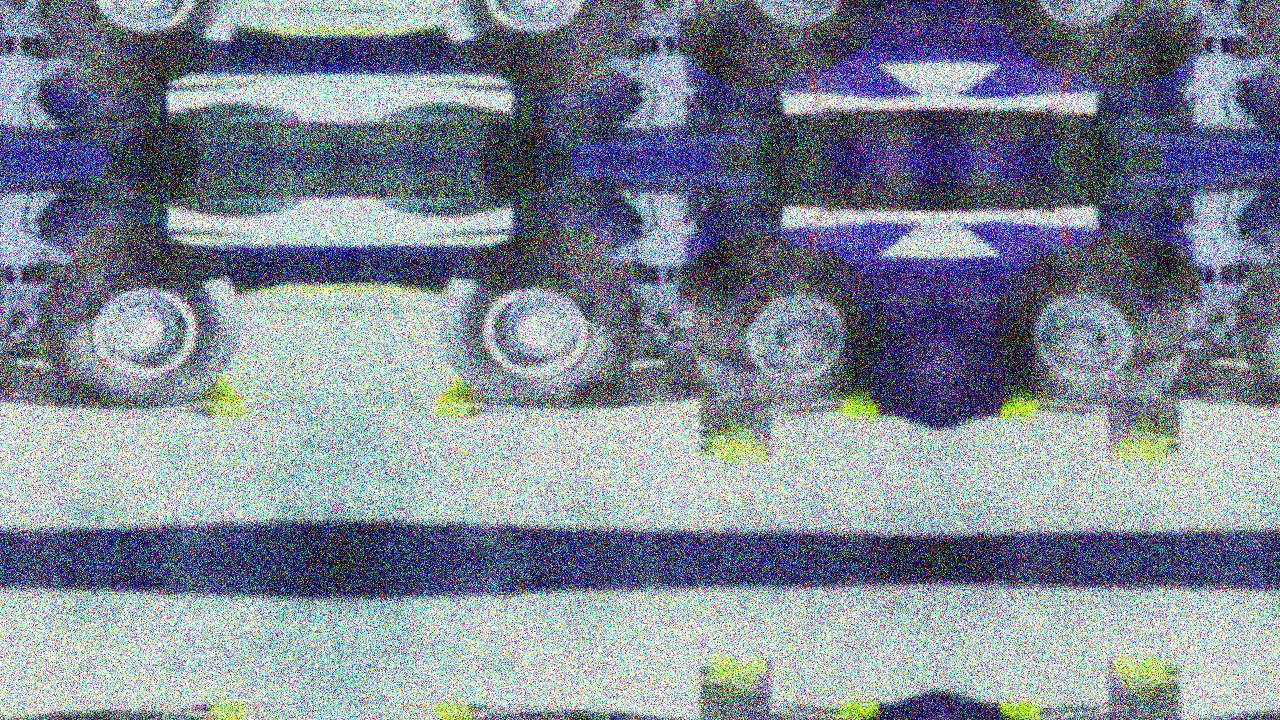chock: (700, 398, 771, 466), (1109, 398, 1180, 466), (700, 654, 771, 720), (1109, 654, 1180, 720), (196, 363, 245, 417), (435, 363, 484, 417), (833, 373, 883, 420), (997, 373, 1047, 420), (833, 700, 883, 720), (997, 700, 1047, 720), (196, 703, 245, 720), (435, 703, 484, 720)
wheel: (43, 231, 242, 406), (438, 231, 637, 406), (690, 243, 882, 406), (998, 243, 1190, 406), (43, 0, 242, 89), (438, 0, 637, 89), (690, 0, 882, 77), (998, 0, 1190, 77), (680, 16, 798, 87), (1082, 16, 1200, 87), (680, 233, 798, 304), (1082, 233, 1200, 304), (1243, 231, 1280, 406), (1243, 0, 1280, 89), (67, 70, 159, 95), (521, 70, 613, 95), (67, 225, 159, 250), (521, 225, 613, 250), (1267, 70, 1280, 95), (1267, 225, 1280, 250)
